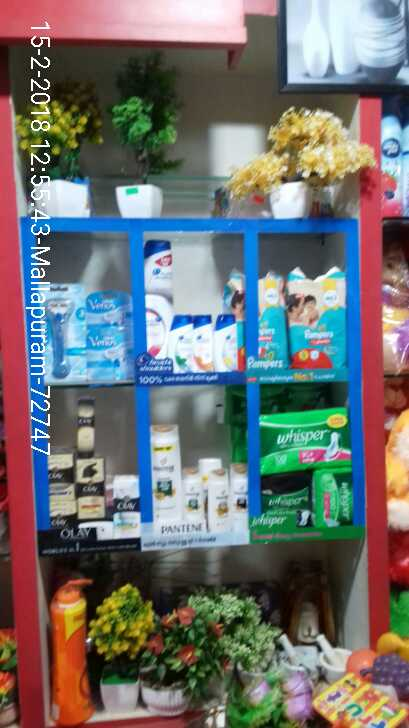ambipureVesus: (380, 94, 405, 217)
venus: (35, 277, 83, 380), (84, 332, 129, 378)
